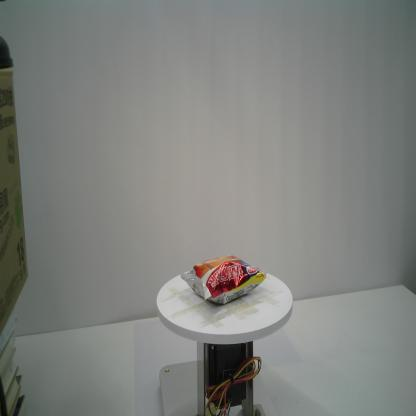Dessert: (179, 252, 267, 307)
